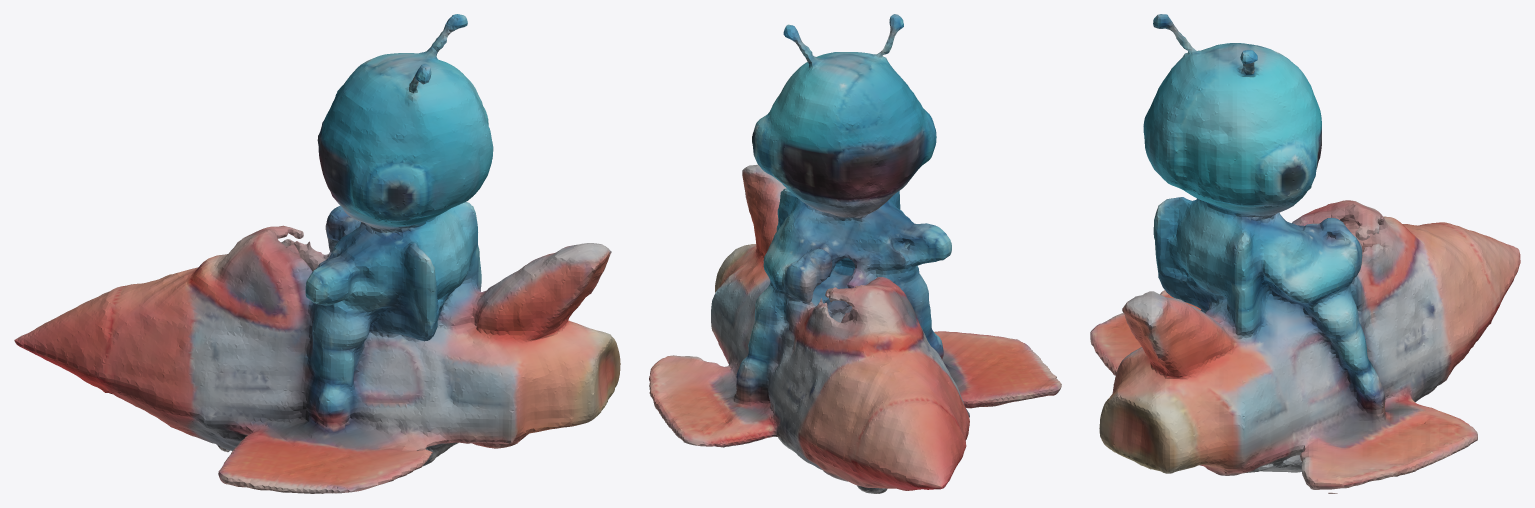
Rendered from RocketNaut.glb.
3 views of the same model, side by side, from view 1: azimuth 30°, elevation 25°; view 2: azimuth 150°, elevation 25°; view 3: azimuth 270°, elevation 25° (orthographic). The views are drawn at different scales.
Visible parts, largest first — view 1: world; view 2: world; view 3: world.
Boxes of the visible parts, x1,y1,x2,y2 form: world: [14, 14, 620, 493]; world: [649, 14, 1061, 493]; world: [1090, 14, 1520, 493].
Bounding box in the file's own units: 1.8 × 1.77 × 1.57.
